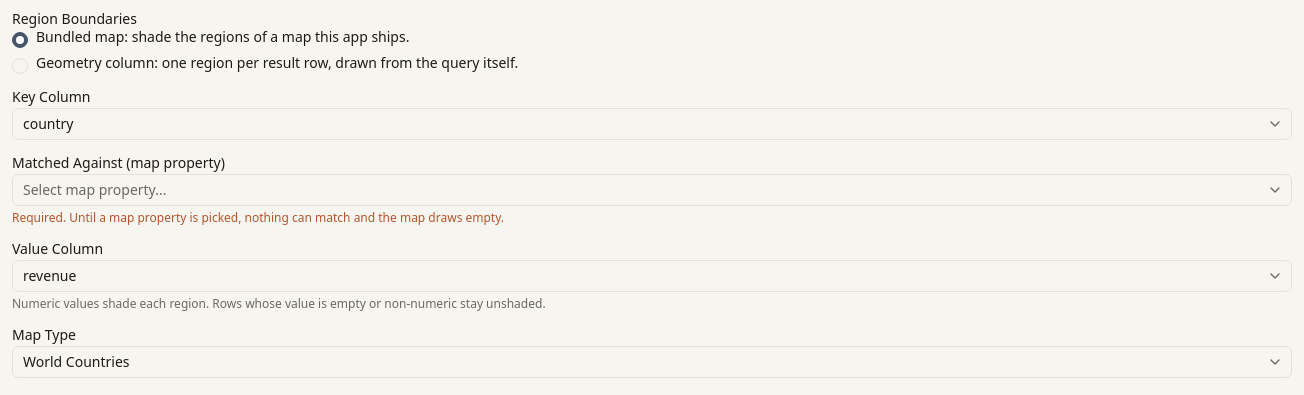
Test: ChoroplethEditor › warns while no map property is picked and stops once one is
Expected: the text "nothing can match and the map draws empty" is shown, [12,209,504,226]
Click the dropdown labelled "Select map property... ▼". click: (95, 190)
box: [12,174,1292,206]
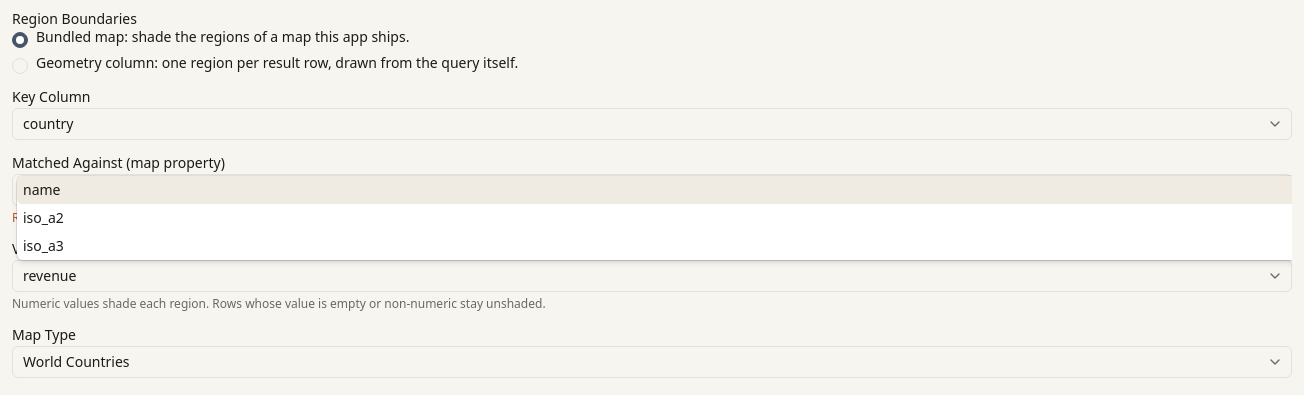
Click the option "name". click: (42, 190)
box: [17,176,1292,204]
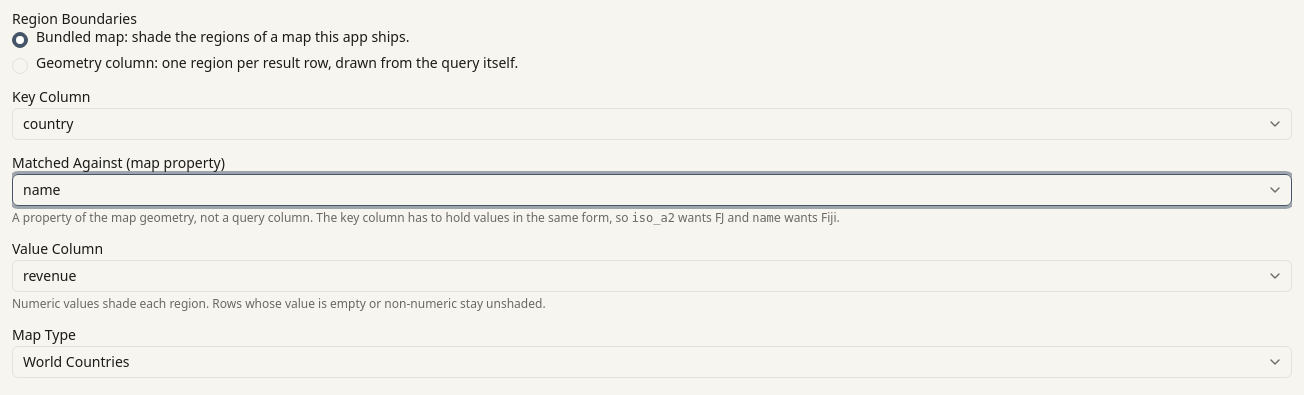
Now the text "nothing can match and the map draws empty" is gone
